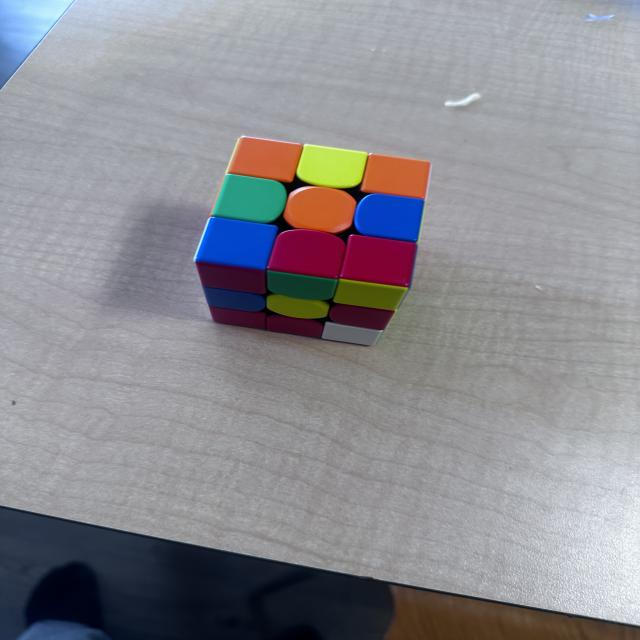sticker: (195, 217, 278, 294), (336, 234, 418, 308), (266, 228, 346, 289), (210, 174, 288, 226), (282, 185, 358, 235), (226, 136, 304, 184), (352, 193, 424, 245), (360, 152, 432, 201), (294, 144, 370, 190), (332, 277, 407, 311), (196, 263, 270, 296), (266, 270, 338, 302), (327, 303, 397, 332), (202, 286, 269, 313), (266, 293, 332, 320), (320, 321, 387, 347), (206, 303, 269, 329), (266, 313, 328, 339)
